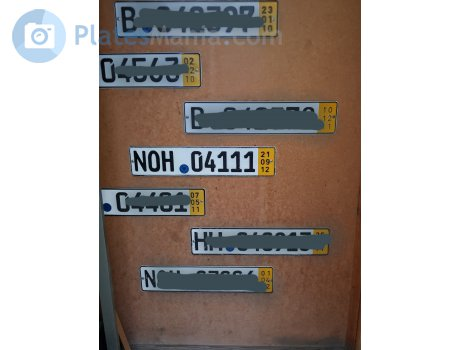License Plates: (126, 147, 260, 174)
